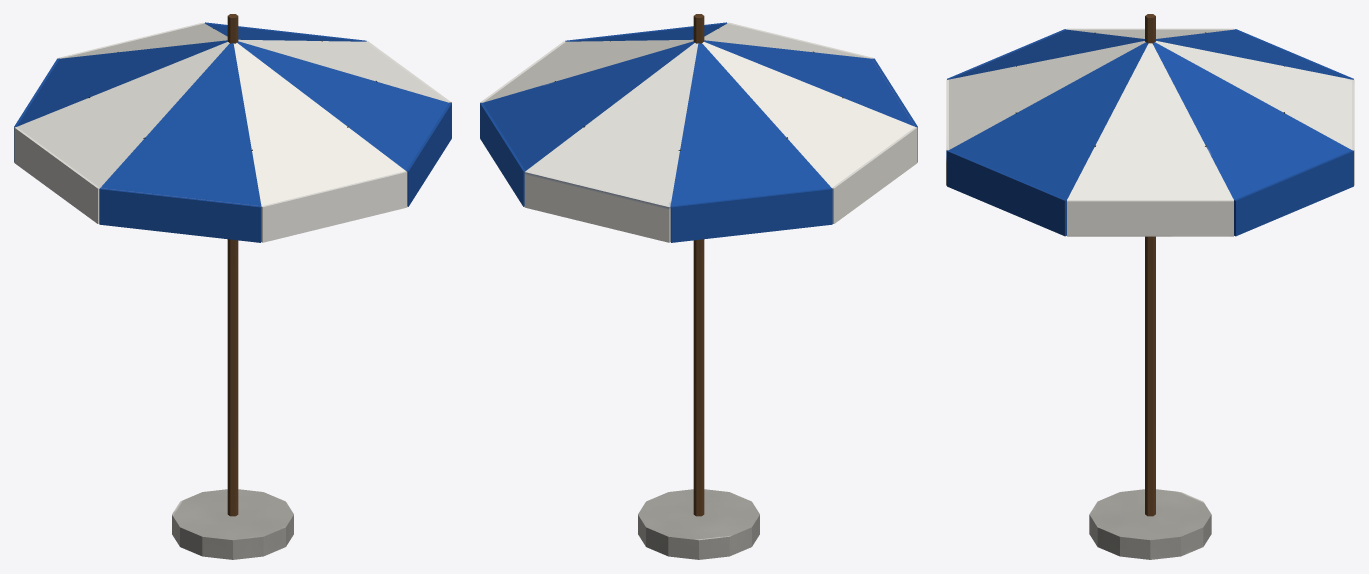
The model's file is slunecnik_3b6f58f4.glb.
3 renders of one model, left to right at view 1: azimuth 30°, elevation 25°; view 2: azimuth 150°, elevation 25°; view 3: azimuth 270°, elevation 25°, orthographic.
Visible parts, largest first — view 1: dum; view 2: dum; view 3: dum.
Part boxes in pixels (x1=…): dum: x1=14, y1=14, x2=451, y2=559; dum: x1=480, y1=14, x2=917, y2=559; dum: x1=946, y1=14, x2=1354, y2=559.
Size of the model in its own units: 1.87 by 2.61 by 1.87.
1 material, 1 textured.
